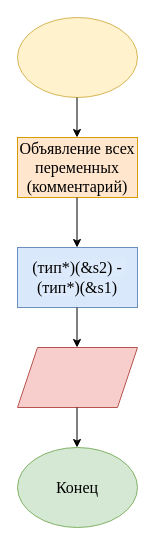
Some shapes in this 155 by 545 pixel diagram are drawn without their labels. Each missing label, with the box of its shape:
Вывод результатов: (16, 346, 138, 408)
Начало: (16, 16, 138, 98)
